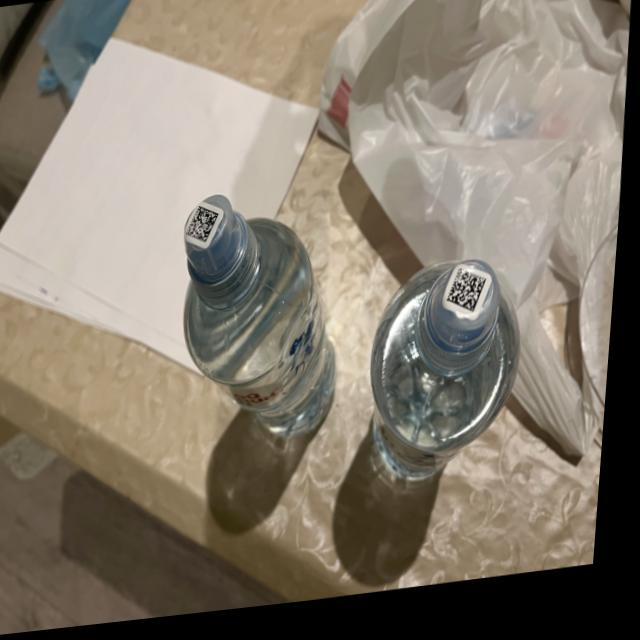datamatrix: (451, 276, 493, 326), (189, 208, 224, 250)
